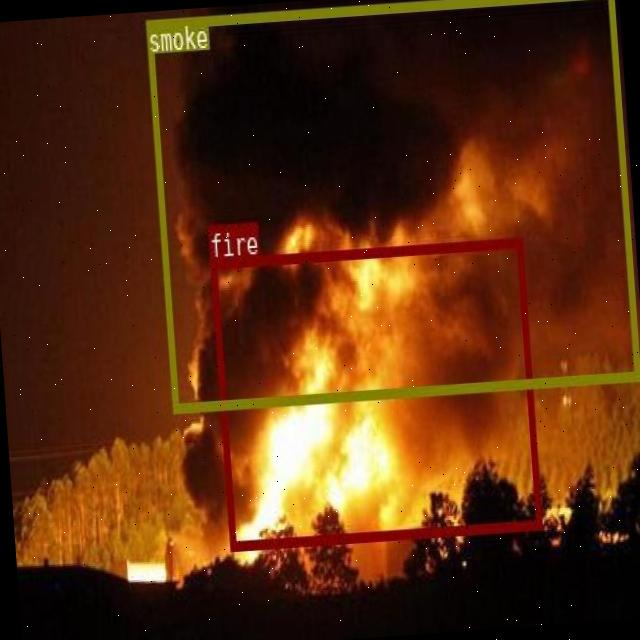fire: (209, 236, 541, 549)
smoke: (143, 0, 638, 410)
